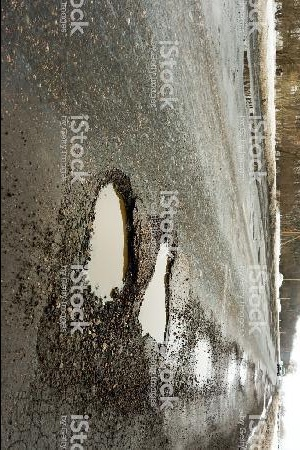pothole: (75, 163, 142, 326), (137, 234, 178, 348), (191, 334, 216, 386), (225, 342, 240, 387), (240, 350, 251, 387)
